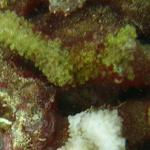dead: (2, 2, 146, 146)
